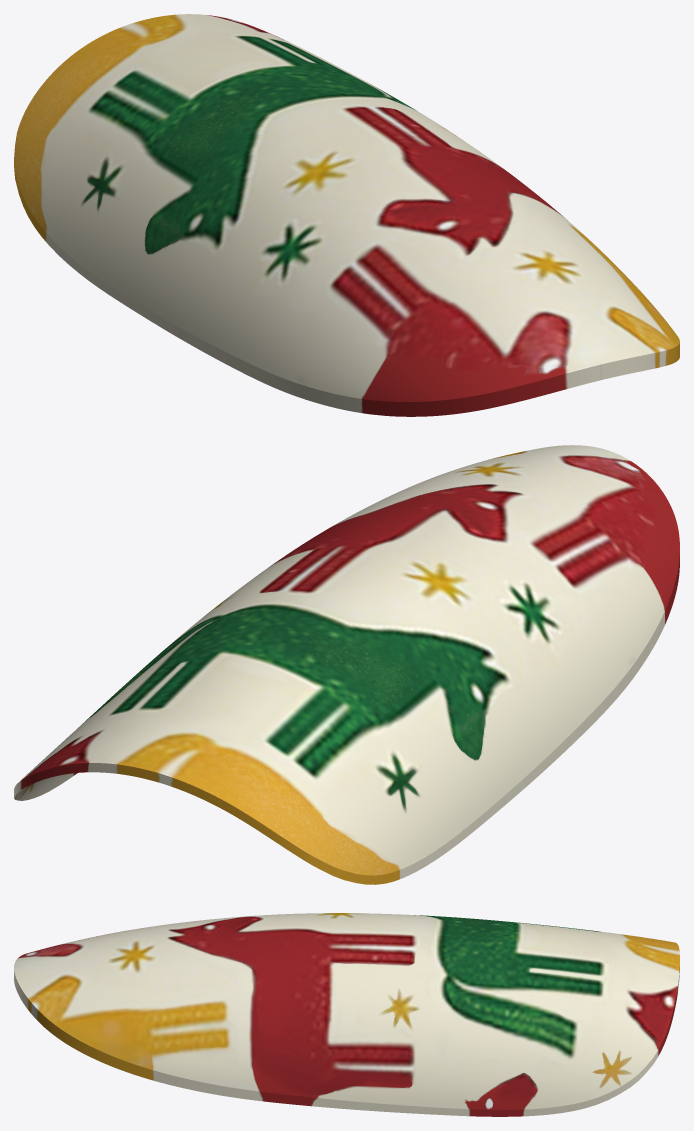
The model's file is MF_Xiao_ma_Shizhi_ty03.obj.
The picture shows the model from 3 angles, top to bottom: view 1: azimuth 30°, elevation 25°; view 2: azimuth 150°, elevation 25°; view 3: azimuth 270°, elevation 25°; orthographic projection. The views are drawn at different scales.
Visible parts, largest first — view 1: MF_Xiao_ma_Shizhi_ty03 MF_Xiao_ma_Shizhi_ty03; view 2: MF_Xiao_ma_Shizhi_ty03 MF_Xiao_ma_Shizhi_ty03; view 3: MF_Xiao_ma_Shizhi_ty03 MF_Xiao_ma_Shizhi_ty03.
Boxes of the visible parts, x1,y1,x2,y2 form: MF_Xiao_ma_Shizhi_ty03 MF_Xiao_ma_Shizhi_ty03: [14, 14, 679, 416]; MF_Xiao_ma_Shizhi_ty03 MF_Xiao_ma_Shizhi_ty03: [14, 445, 679, 884]; MF_Xiao_ma_Shizhi_ty03 MF_Xiao_ma_Shizhi_ty03: [14, 913, 679, 1116].
Size of the model in its own units: 11.98 by 5.49 by 26.36.
1 material, 1 textured.
